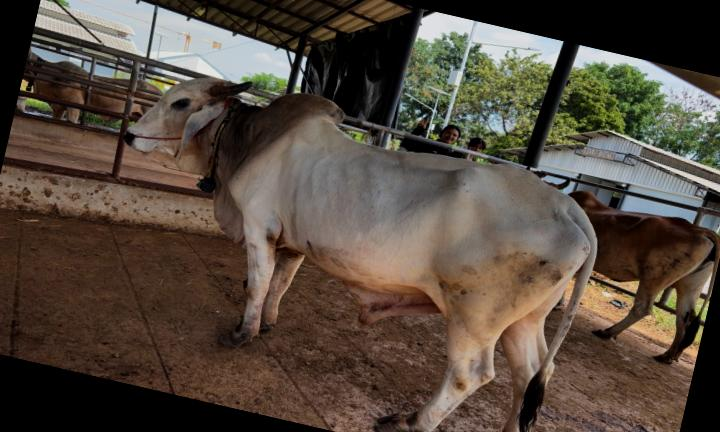Brahman: (126, 78, 597, 432)
